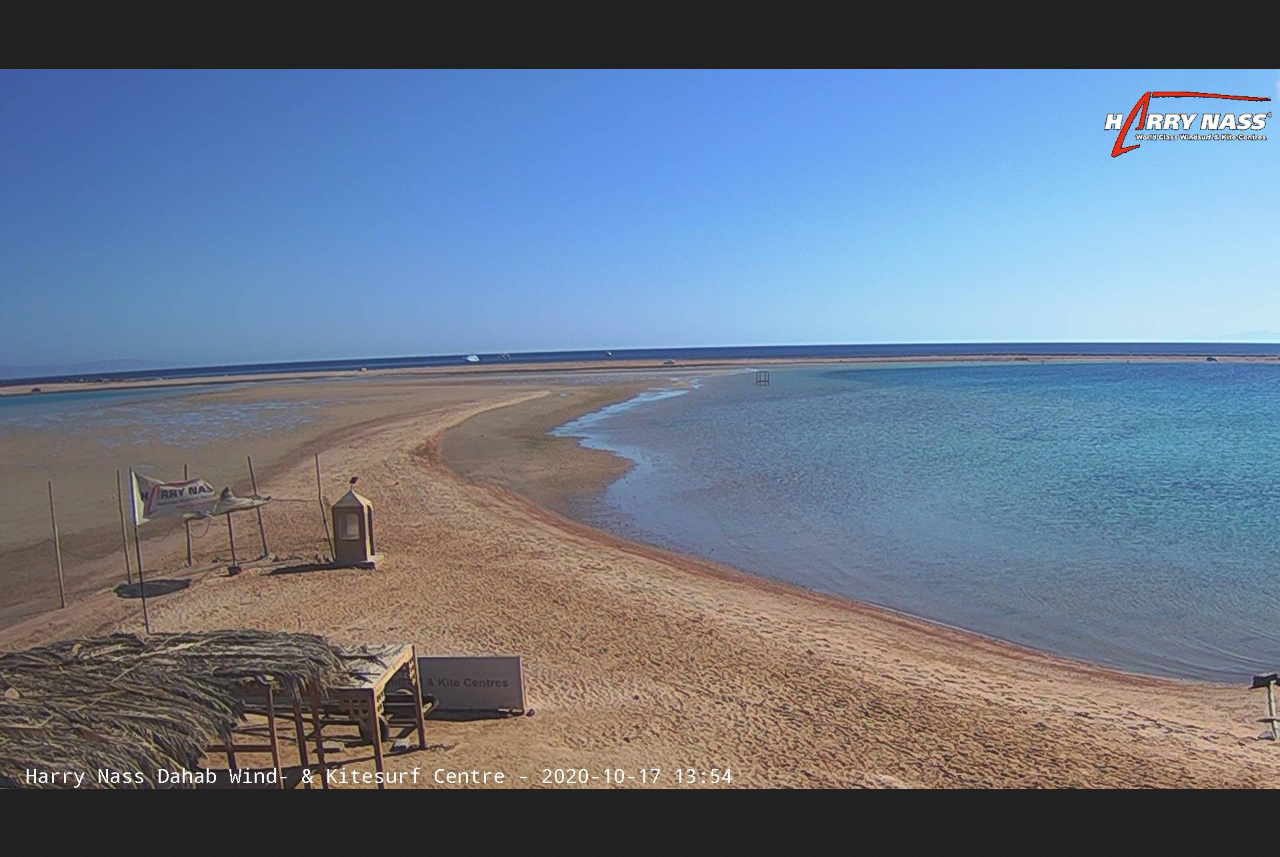yes: (123, 471, 271, 526)
